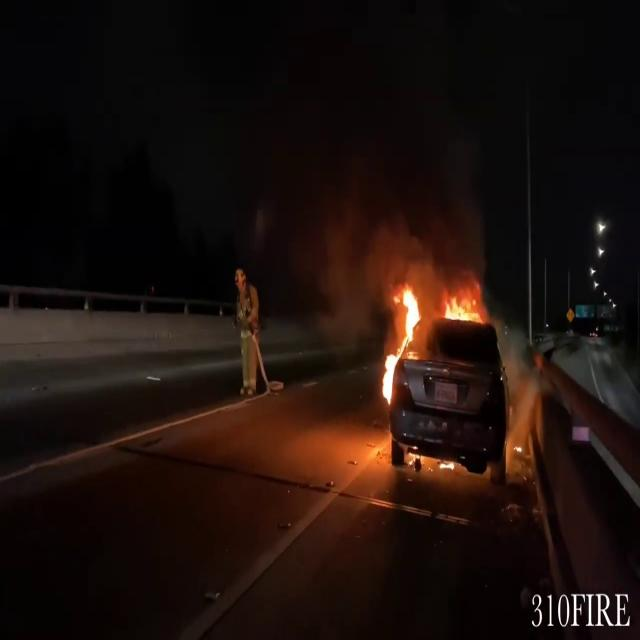Fire: (376, 280, 422, 403), (437, 278, 492, 332)
